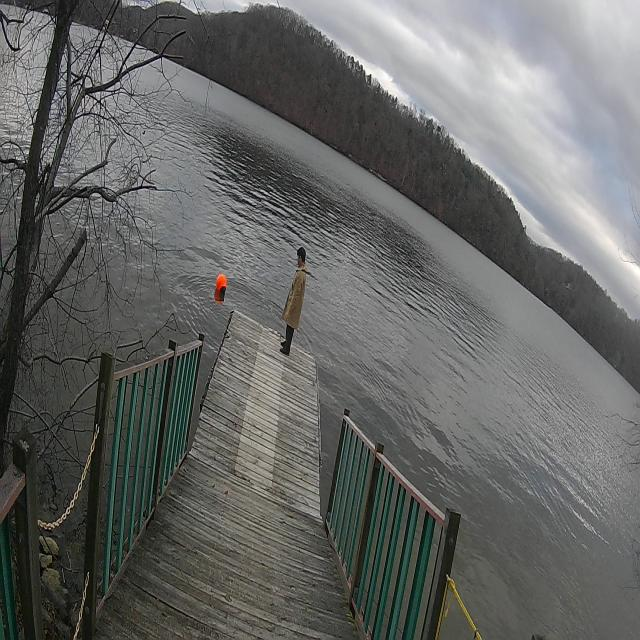Buoy: (213, 268, 230, 301)
